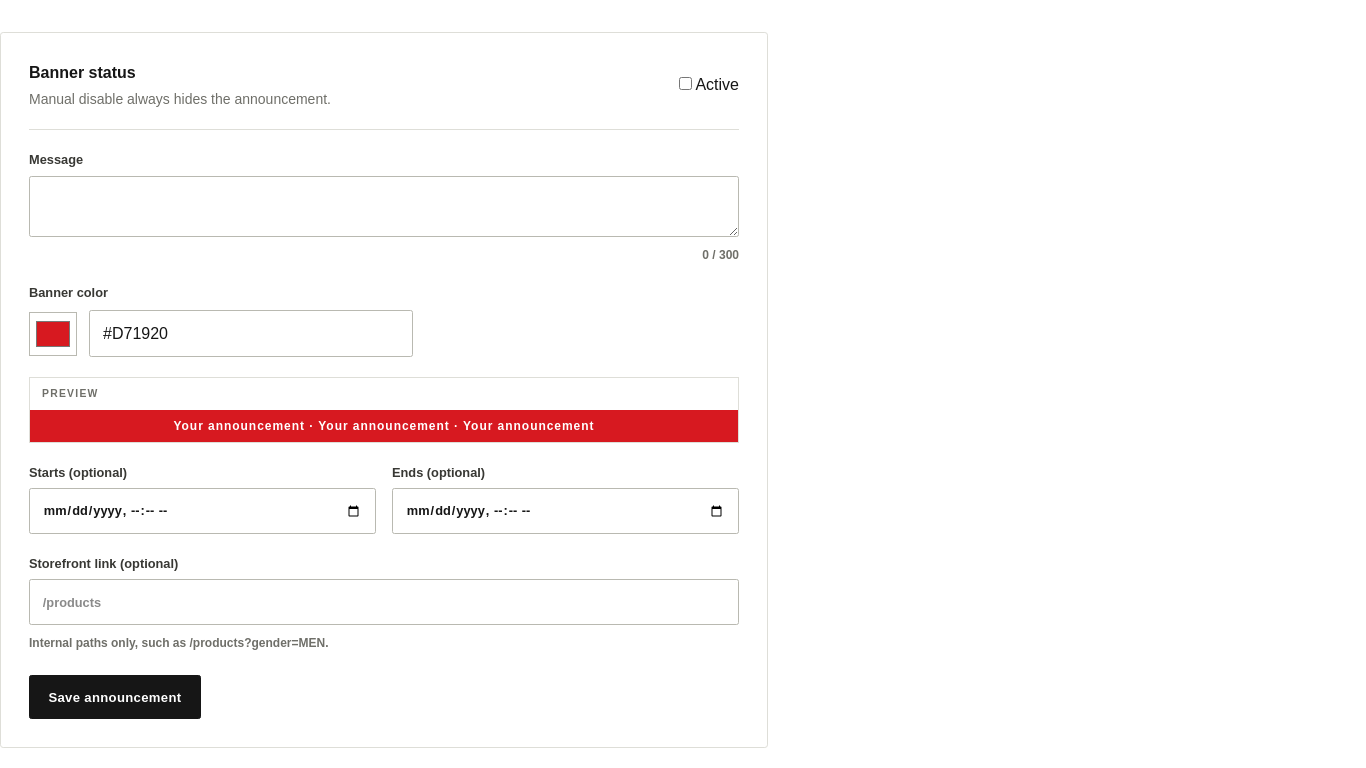
it: AnnouncementForm › saves message, enabled state, and schedule with toast feedback
Click the checkbox labelled "Active". click: (685, 84)
box: [679,77,692,90]
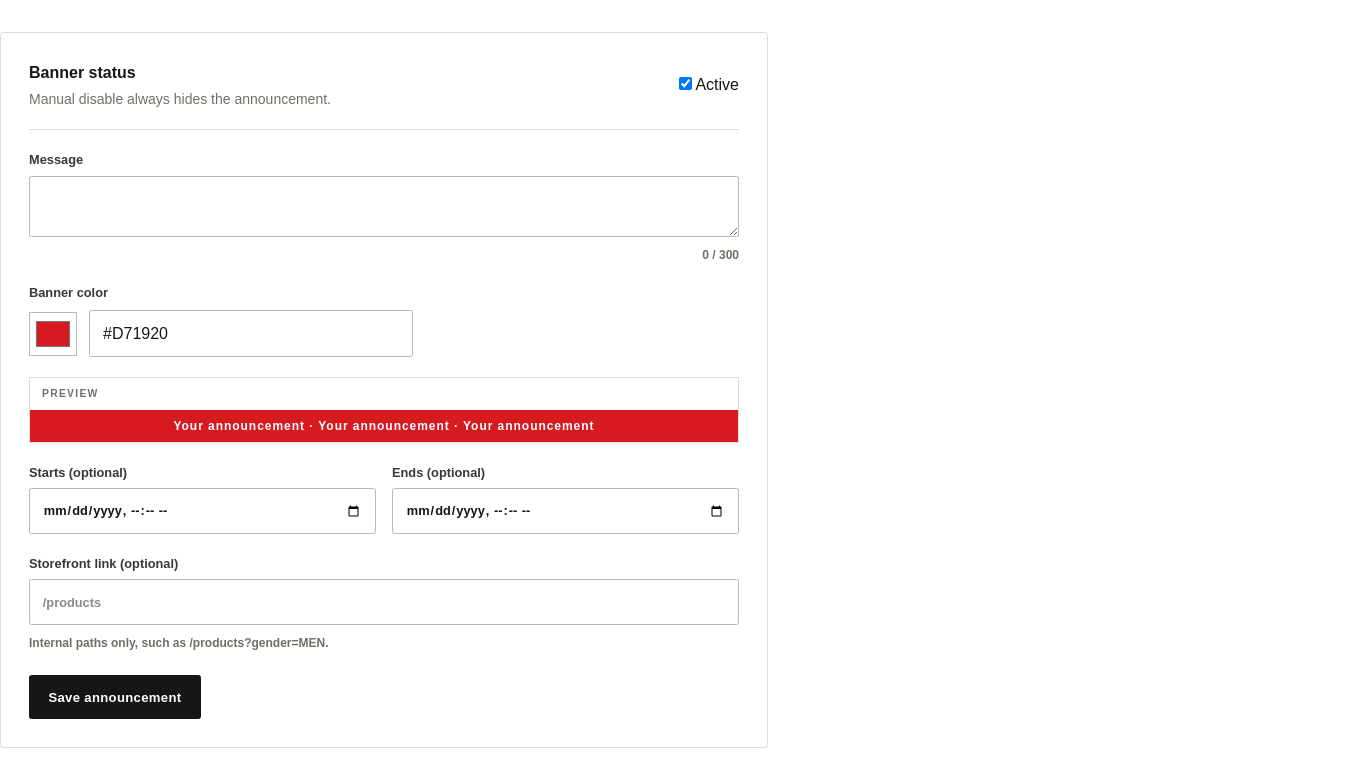
Type "EID SALE: 30% OFF" into the text box labelled "Message 0 / 300". click: (384, 206)
box: [29,176,739,237]
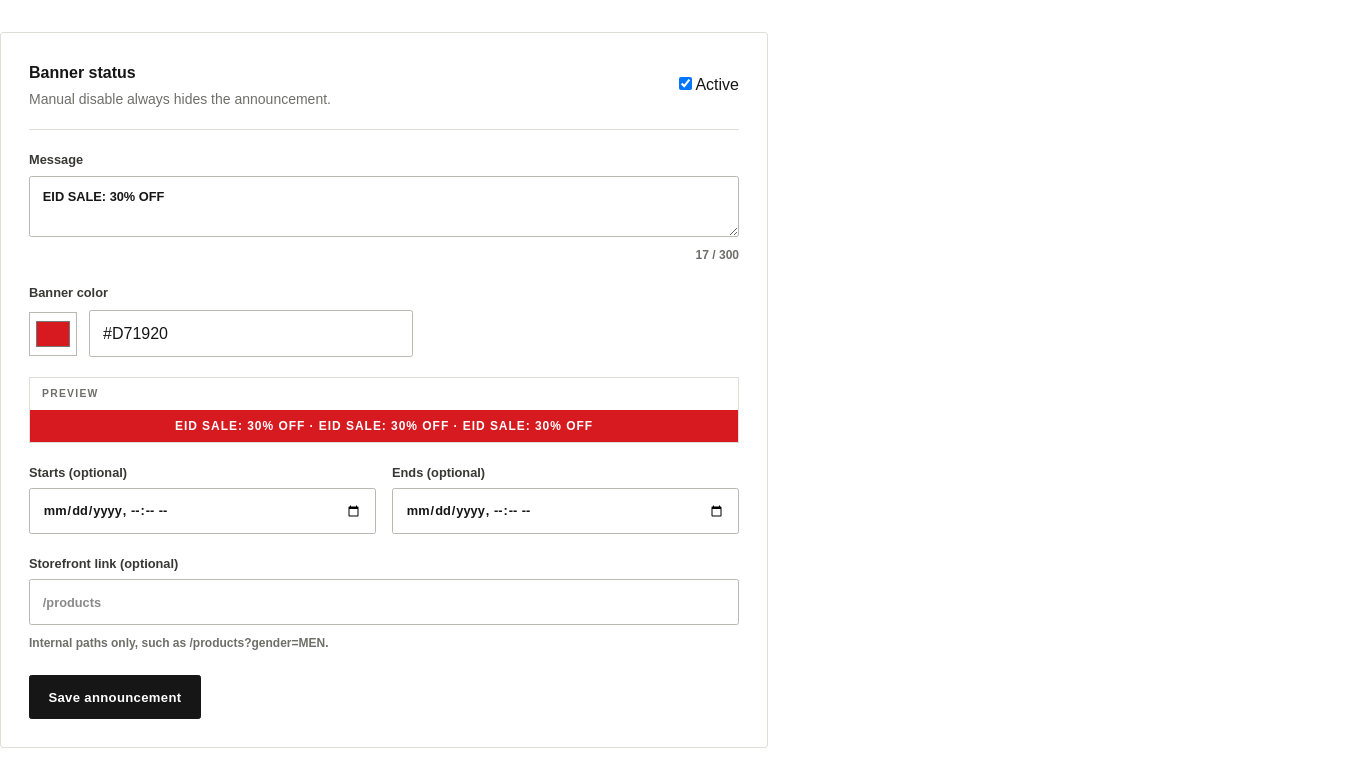
Type "2026-08-20T00:00" into the field labelled "Starts (optional)". click: (202, 511)
box: [29,488,376,534]
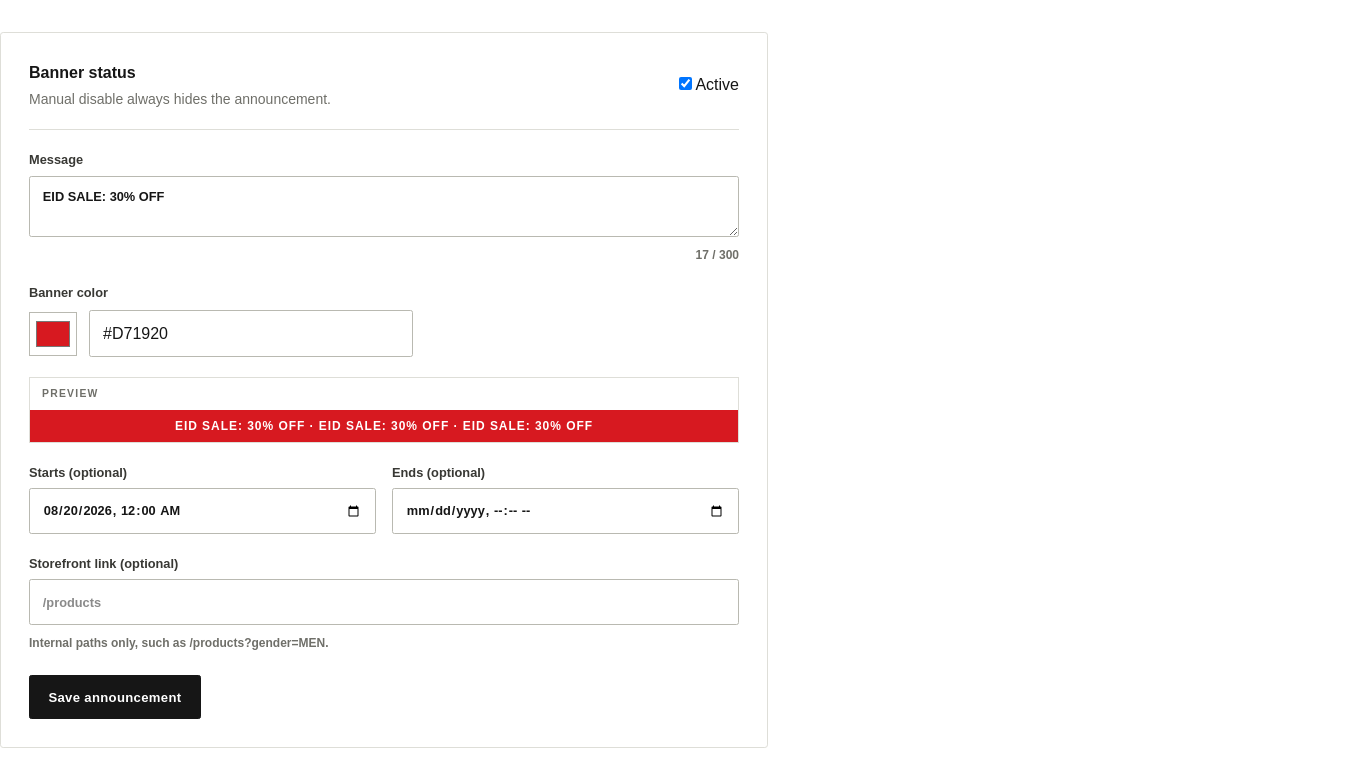
Type "2026-08-31T23:59" into the field labelled "Ends (optional)". click: (566, 511)
box: [392,488,739,534]
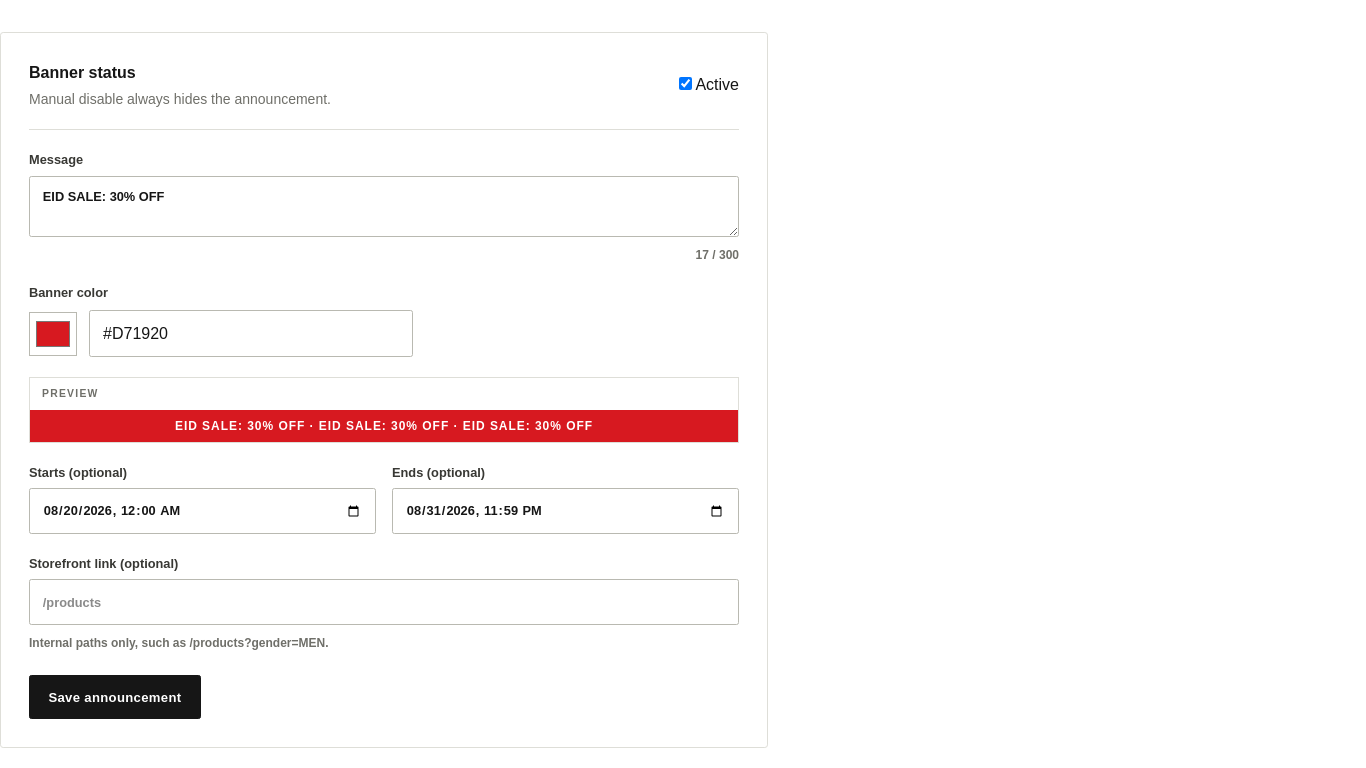
Replace the text in the field named "Banner color hex" with "#000000". click: (251, 334)
box: [89,310,413,357]
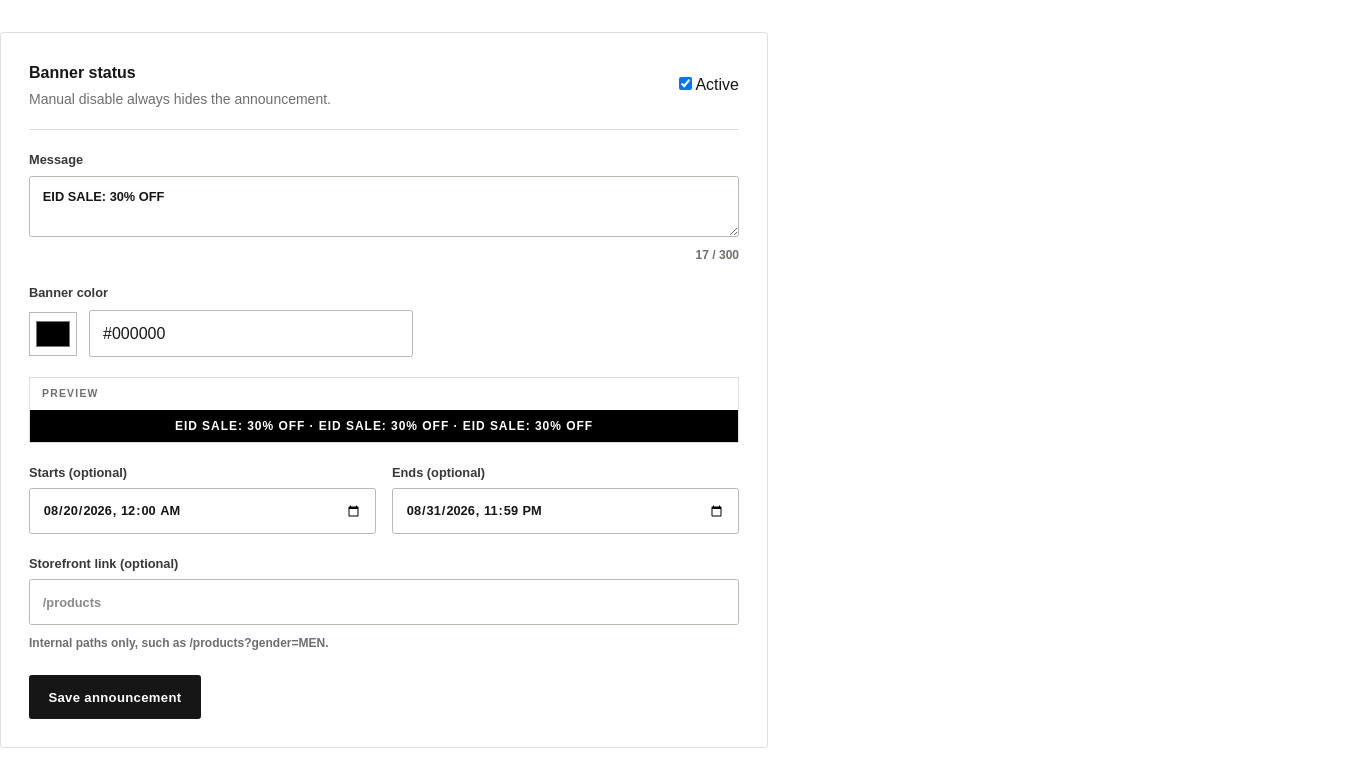
Click the button "Save announcement". click: (115, 697)
box: [29,675,201,719]
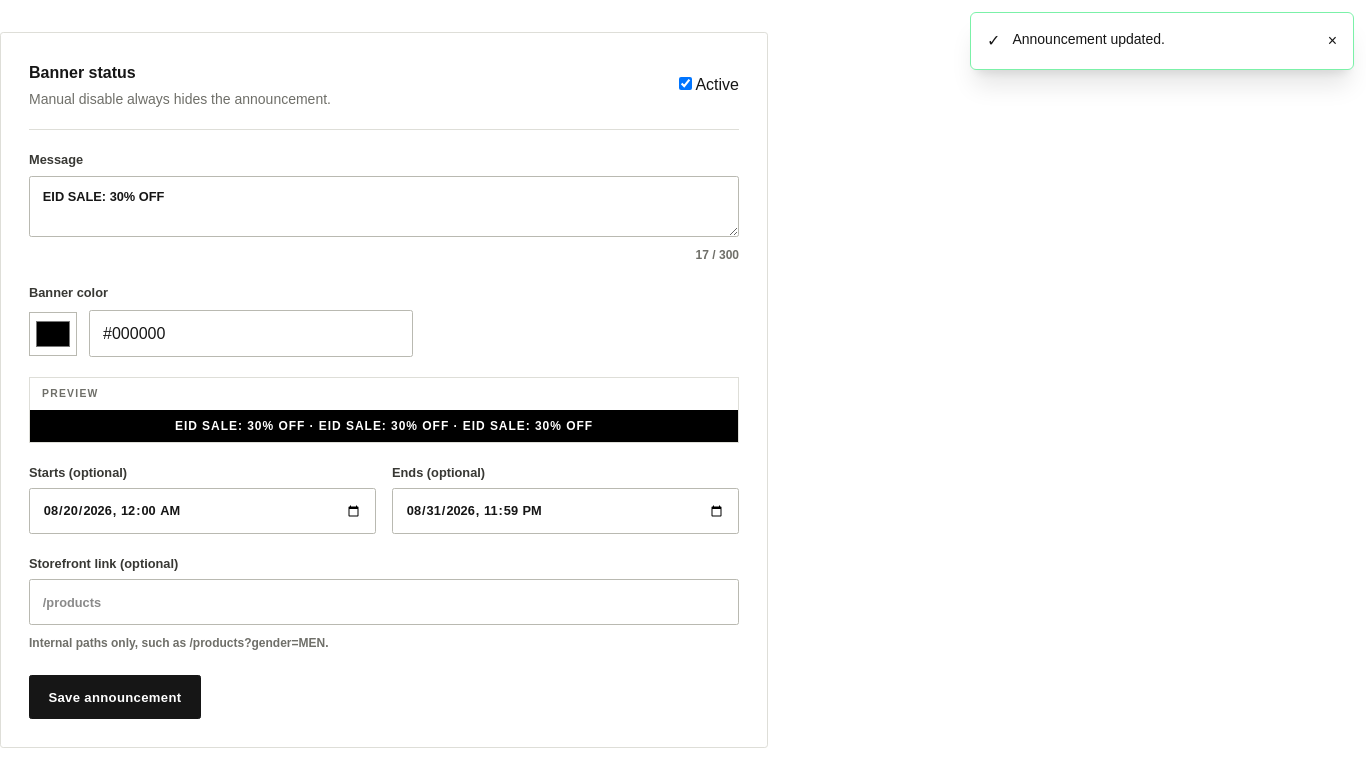
Result: the text "Announcement updated." is shown at [1012,31,1165,47]
